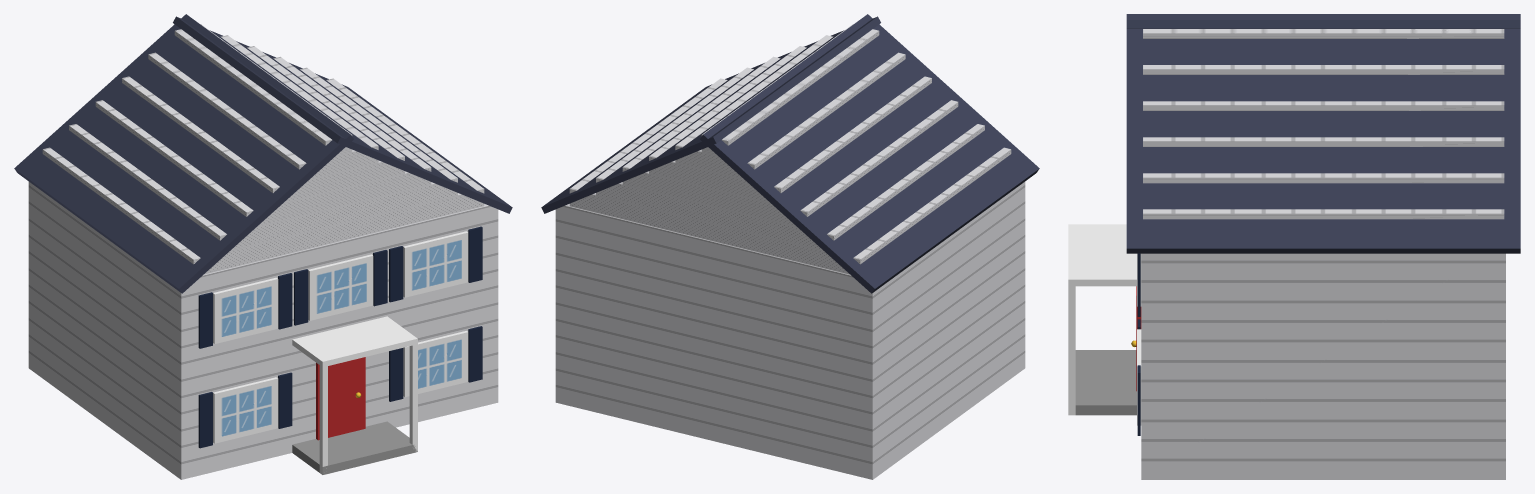
Rendered from house_white.glb.
3 renders of one model, left to right at view 1: azimuth 30°, elevation 25°; view 2: azimuth 150°, elevation 25°; view 3: azimuth 270°, elevation 25°, orthographic. The views are drawn at different scales.
Visible parts, largest first — view 1: house_white; view 2: house_white; view 3: house_white.
Boxes of the visible parts, x1,y1,x2,y2 form: house_white: (14,14,512,479); house_white: (541,14,1039,479); house_white: (1068,14,1520,479).
Bounding box in the file's own units: 6.32 × 5.6 × 6.2.
8 materials, 2 textured.
